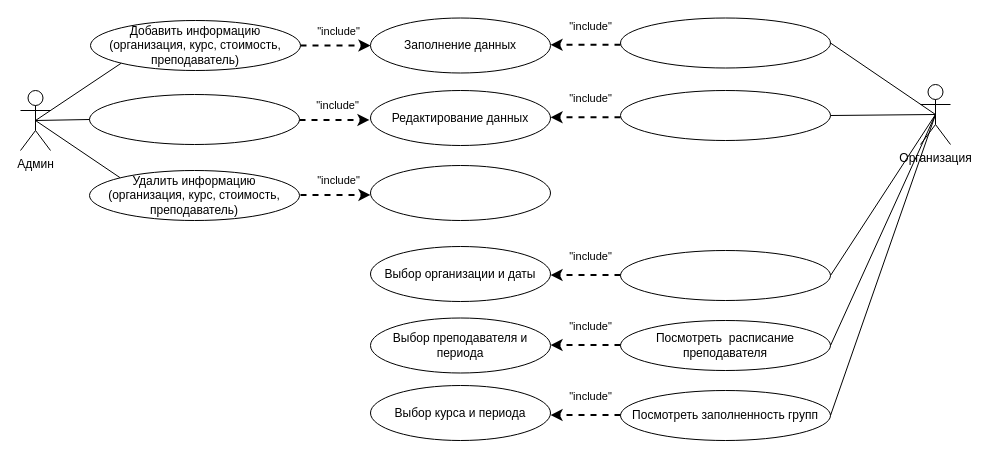
The diagram is 989 pixels wide and 458 high, and some of its shapes have lost their labels. The shapes that lost their labels are listed below. From the top down, each one's centre as x and y in pixels, then its label:
At point 725,42: "Добавить заявки на обучение".
At point 194,119: "Редактировать информацию (организация, курс, стоимость, преподаватель)".
At point 725,115: "Редактировать заявки на обучение".
At point 460,192: "Подтверждение удаления".
At point 725,275: "Посмотреть прайс-лист".
